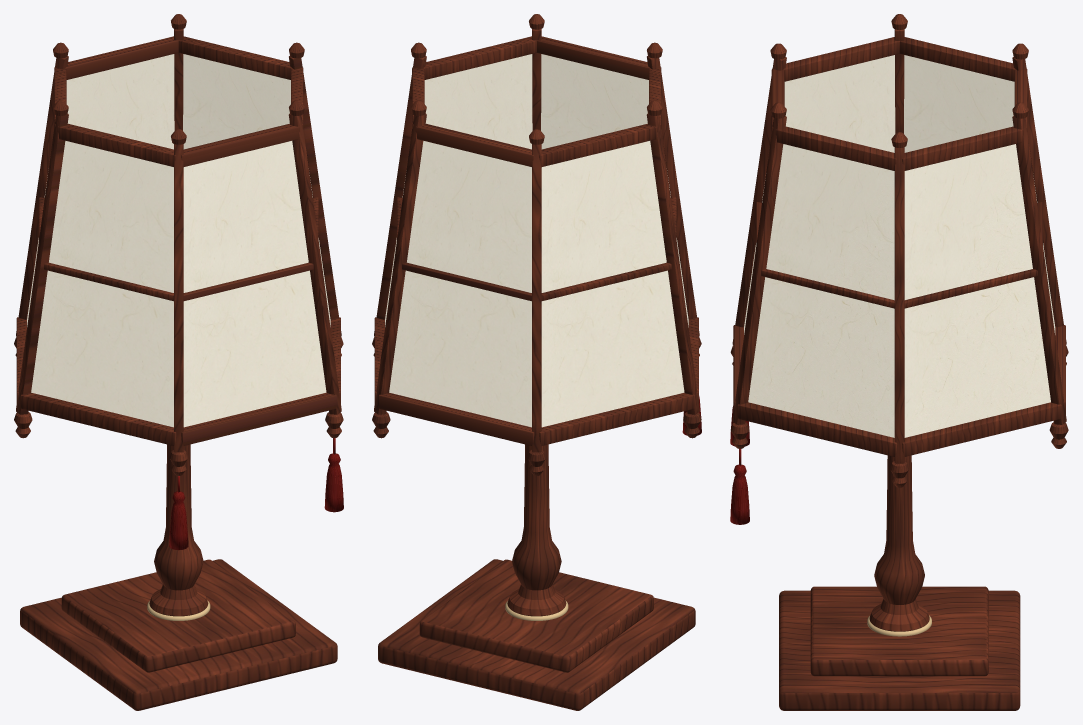
Rendered from desk_lamp.glb.
3 views of the same model, side by side, from view 1: azimuth 30°, elevation 25°; view 2: azimuth 150°, elevation 25°; view 3: azimuth 270°, elevation 25° (orthographic). The views are drawn at different scales.
Parts seen in each view (by area): view 1: lamp_paper, lamp_frame, lamp_body, lamp_silk; view 2: lamp_paper, lamp_frame, lamp_body; view 3: lamp_paper, lamp_frame, lamp_body, lamp_silk.
Boxes of the visible parts, left/top/right/bottom form: lamp_paper: left=27, top=54, right=330, bottom=427; lamp_frame: left=14, top=14, right=343, bottom=475; lamp_body: left=20, top=444, right=337, bottom=710; lamp_silk: left=169, top=438, right=343, bottom=550; lamp_paper: left=385, top=54, right=688, bottom=427; lamp_frame: left=372, top=14, right=701, bottom=475; lamp_body: left=378, top=444, right=695, bottom=710; lamp_paper: left=744, top=55, right=1055, bottom=437; lamp_frame: left=730, top=14, right=1068, bottom=487; lamp_body: left=779, top=455, right=1020, bottom=710; lamp_silk: left=730, top=406, right=749, bottom=524.
Size of the model in its own units: 1.22 by 2.04 by 1.07.
Materials: 5 (3 with a texture image).
